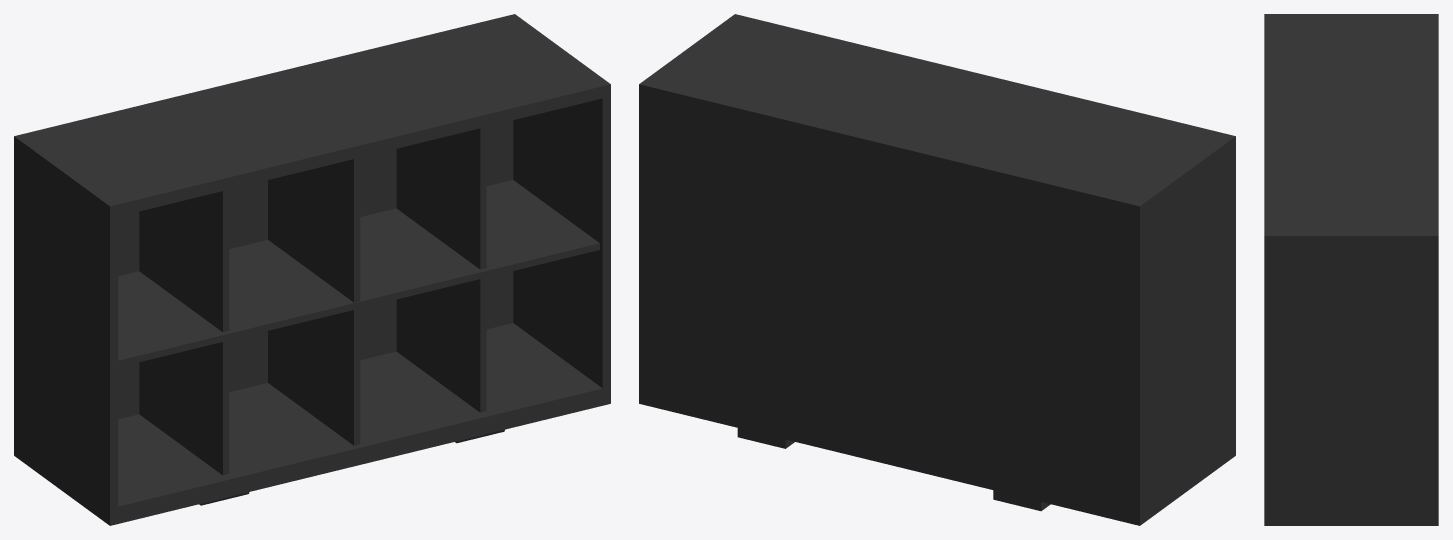
Rendered from shelf_7.glb.
3 views of the same model, side by side, from view 1: azimuth 30°, elevation 25°; view 2: azimuth 150°, elevation 25°; view 3: azimuth 270°, elevation 25° (orthographic). The views are drawn at different scales.
Visible parts, largest first — view 1: Expositor 2x1 C; view 2: Expositor 2x1 C; view 3: Expositor 2x1 C.
Part boxes in pixels (x1=…): Expositor 2x1 C: x1=14, y1=14, x2=610, y2=525; Expositor 2x1 C: x1=639, y1=14, x2=1235, y2=525; Expositor 2x1 C: x1=1264, y1=14, x2=1438, y2=525.
Size of the model in its own units: 1.37 by 0.857 by 0.4532.
Materials: 1 (1 with a texture image).
